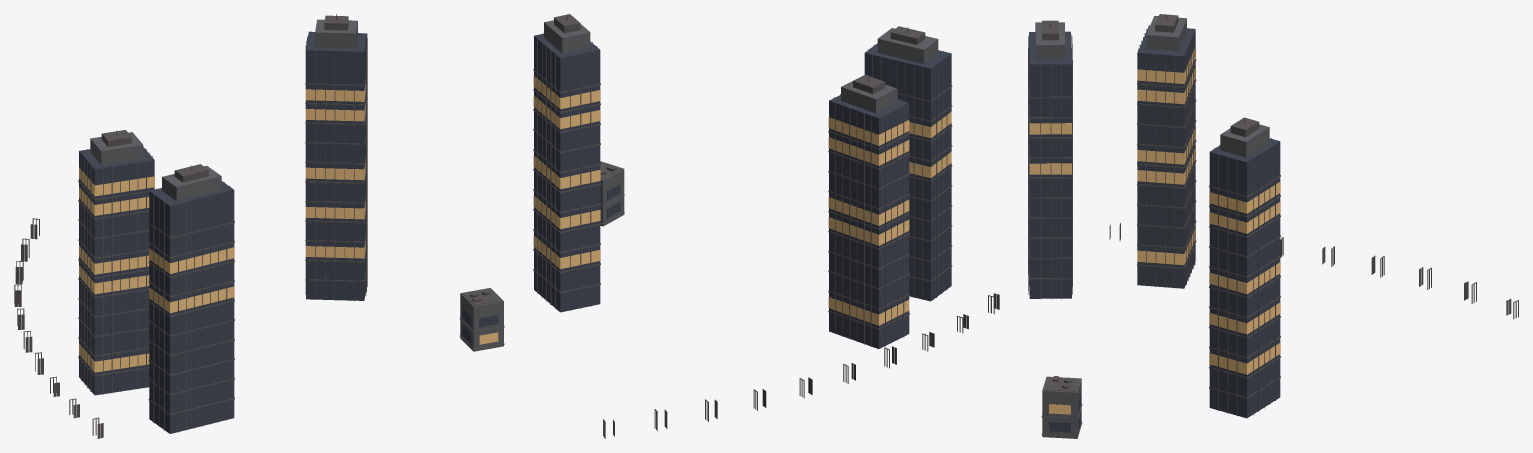
File: SM_City_AbrajAlMalih_3.fbx
The picture shows the model from 3 angles, left to right: view 1: azimuth 30°, elevation 25°; view 2: azimuth 150°, elevation 25°; view 3: azimuth 270°, elevation 25°; orthographic projection. The views are drawn at different scales.
Parts seen in each view (by area): view 1: SM_City_AbrajAlMalih_3; view 2: SM_City_AbrajAlMalih_3; view 3: SM_City_AbrajAlMalih_3.
Boxes of the visible parts, x1,y1,x2,y2 form: SM_City_AbrajAlMalih_3: (14, 14, 504, 438); SM_City_AbrajAlMalih_3: (533, 14, 999, 438); SM_City_AbrajAlMalih_3: (1028, 14, 1518, 438).
Bounding box in the file's own units: 7777 × 5088 × 7959.
6 materials, 6 textured.
